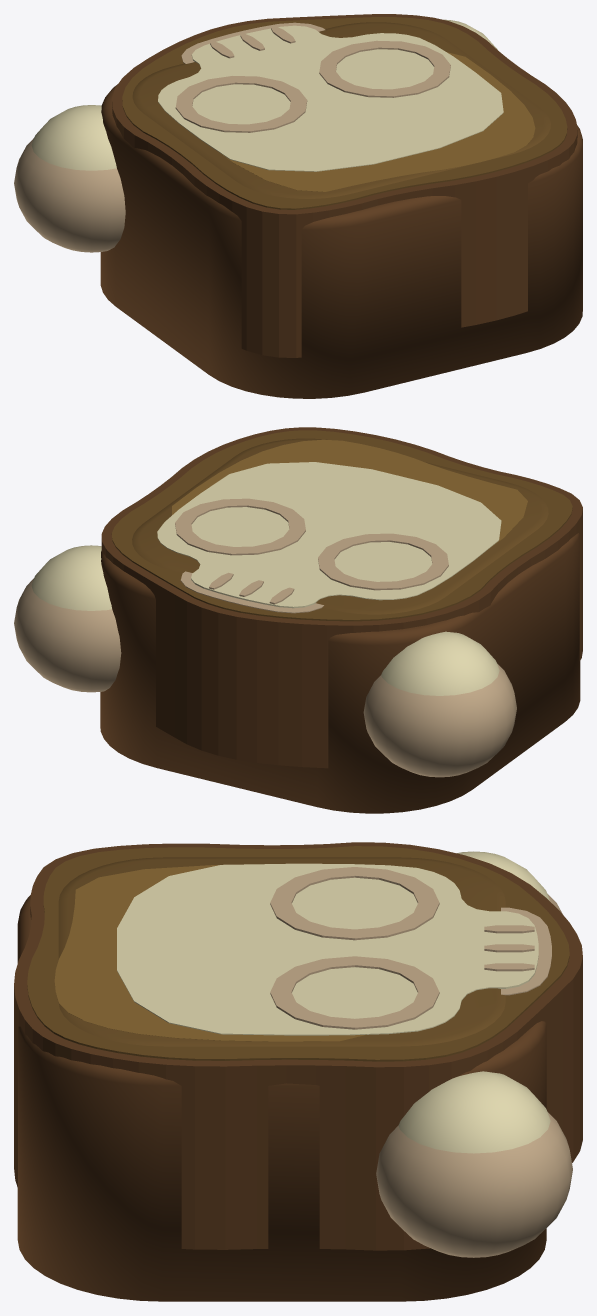
The model's file is body_caveira.fbx.
3 views of the same model, one above another, from view 1: azimuth 30°, elevation 25°; view 2: azimuth 150°, elevation 25°; view 3: azimuth 270°, elevation 25° (orthographic). The views are drawn at different scales.
Visible parts, largest first — view 1: body_caveira_corpo, body_caveira_mao_esq; view 2: body_caveira_corpo, body_caveira_mao_esq, body_caveira_mao; view 3: body_caveira_corpo, body_caveira_mao, body_caveira_mao_esq.
Part boxes in pixels (bbox=[...]): body_caveira_corpo: bbox=[100, 14, 582, 398]; body_caveira_mao_esq: bbox=[14, 105, 125, 252]; body_caveira_corpo: bbox=[100, 427, 582, 813]; body_caveira_mao_esq: bbox=[363, 631, 516, 777]; body_caveira_mao: bbox=[14, 545, 121, 692]; body_caveira_corpo: bbox=[14, 842, 582, 1301]; body_caveira_mao: bbox=[376, 1071, 572, 1257]; body_caveira_mao_esq: bbox=[457, 851, 562, 913].
Size of the model in its own units: 5.4 by 2.02 by 4.3.
1 material, 1 textured.
